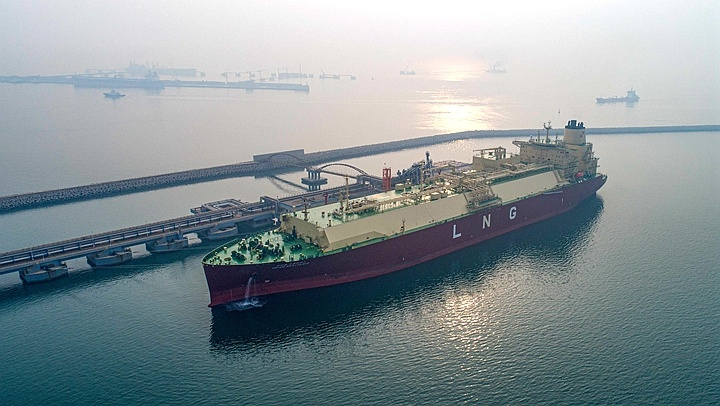Cargoship: (198, 109, 608, 313), (593, 86, 643, 106)
